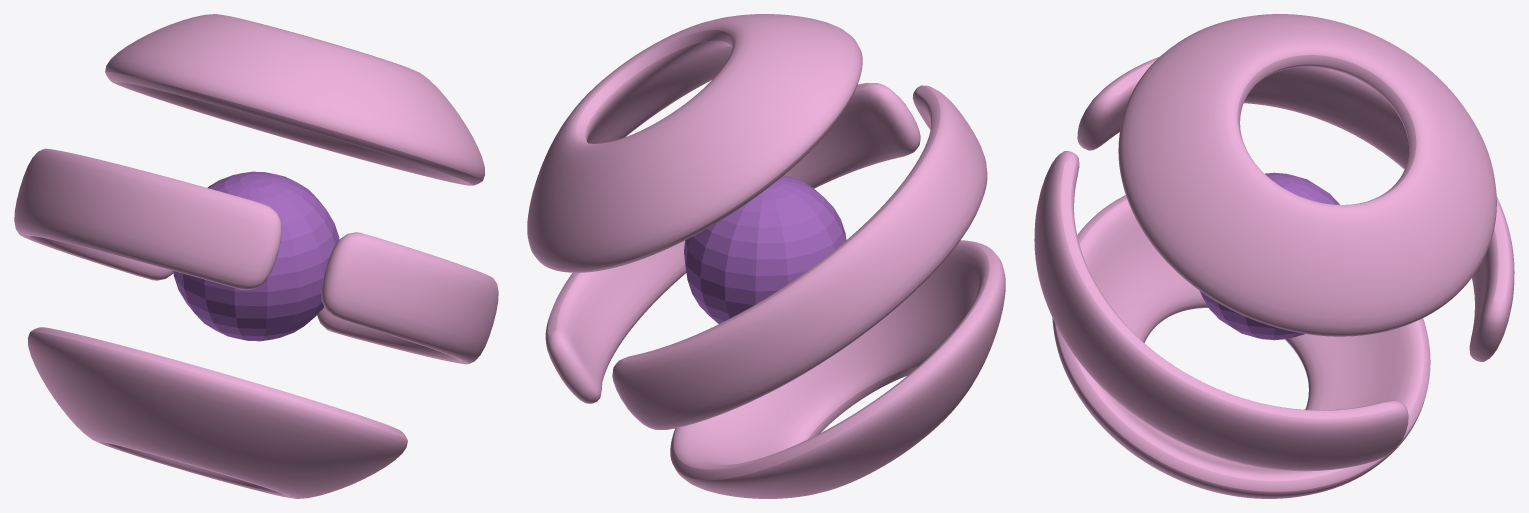
File: 引力器.fbx
3 views of the same model, side by side, from view 1: azimuth 30°, elevation 25°; view 2: azimuth 150°, elevation 25°; view 3: azimuth 270°, elevation 25° (orthographic).
Visible parts, largest first — view 1: Sphere.037, 球体; view 2: Sphere.037, 球体; view 3: Sphere.037, 球体.
Part boxes in pixels (bbox=[...]): Sphere.037: bbox=[14, 14, 498, 498]; 球体: bbox=[173, 171, 339, 341]; Sphere.037: bbox=[527, 14, 1005, 498]; 球体: bbox=[684, 175, 846, 323]; Sphere.037: bbox=[1034, 14, 1514, 498]; 球体: bbox=[1200, 172, 1339, 340].
Size of the model in its own units: 80.7 by 82.71 by 81.35.
